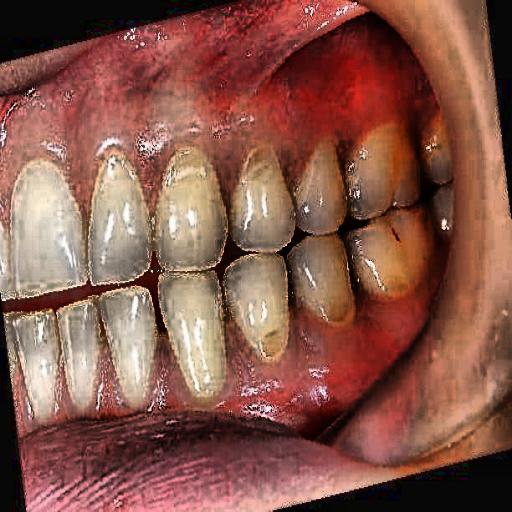Gingivitis: (7, 35, 306, 183)
